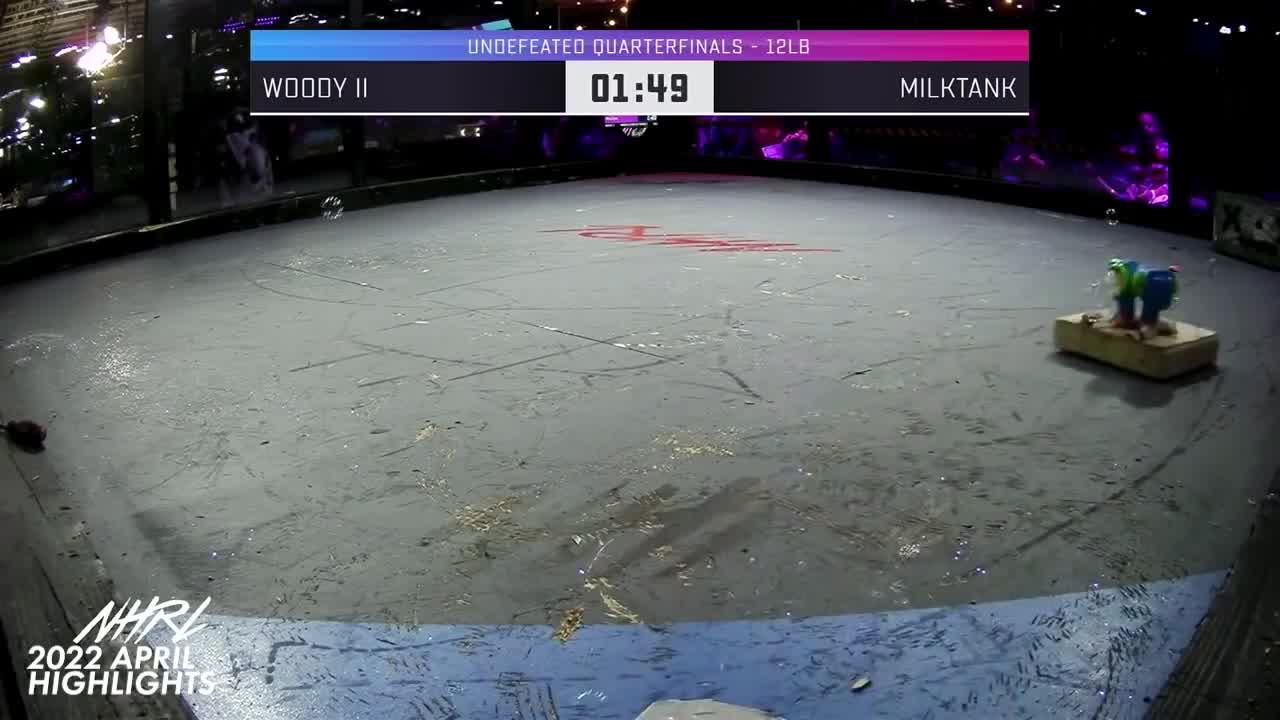combatbot: (1054, 310, 1218, 378)
debris: (3, 419, 48, 451)
housebot: (1210, 192, 1280, 271)
